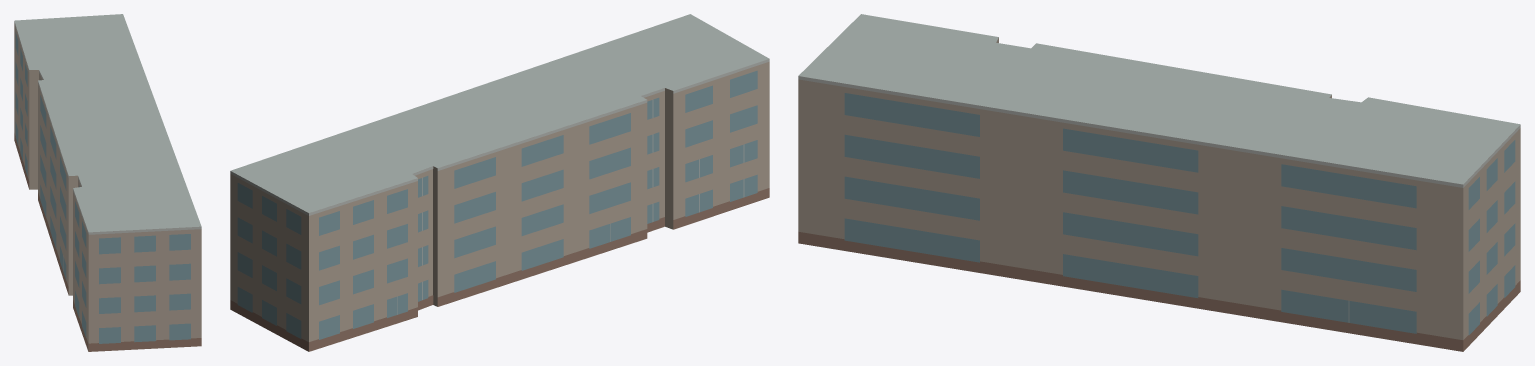
Rendered from survey-upis-32682604.glb.
3 views of the same model, side by side, from view 1: azimuth 30°, elevation 25°; view 2: azimuth 150°, elevation 25°; view 3: azimuth 270°, elevation 25° (orthographic). The views are drawn at different scales.
Visible parts, largest first — view 1: survey-upis-32682604.tmp; view 2: survey-upis-32682604.tmp; view 3: survey-upis-32682604.tmp.
Boxes of the visible parts, x1=… form: survey-upis-32682604.tmp: x1=14, y1=14, x2=201, y2=351; survey-upis-32682604.tmp: x1=230, y1=14, x2=769, y2=351; survey-upis-32682604.tmp: x1=798, y1=14, x2=1520, y2=351.
Bounding box in the file's own units: 26.13 × 11.95 × 46.76.
